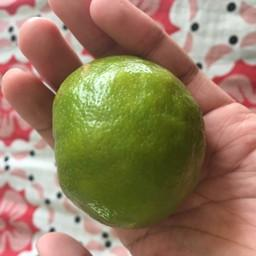Good_orange: (50, 50, 210, 231)
